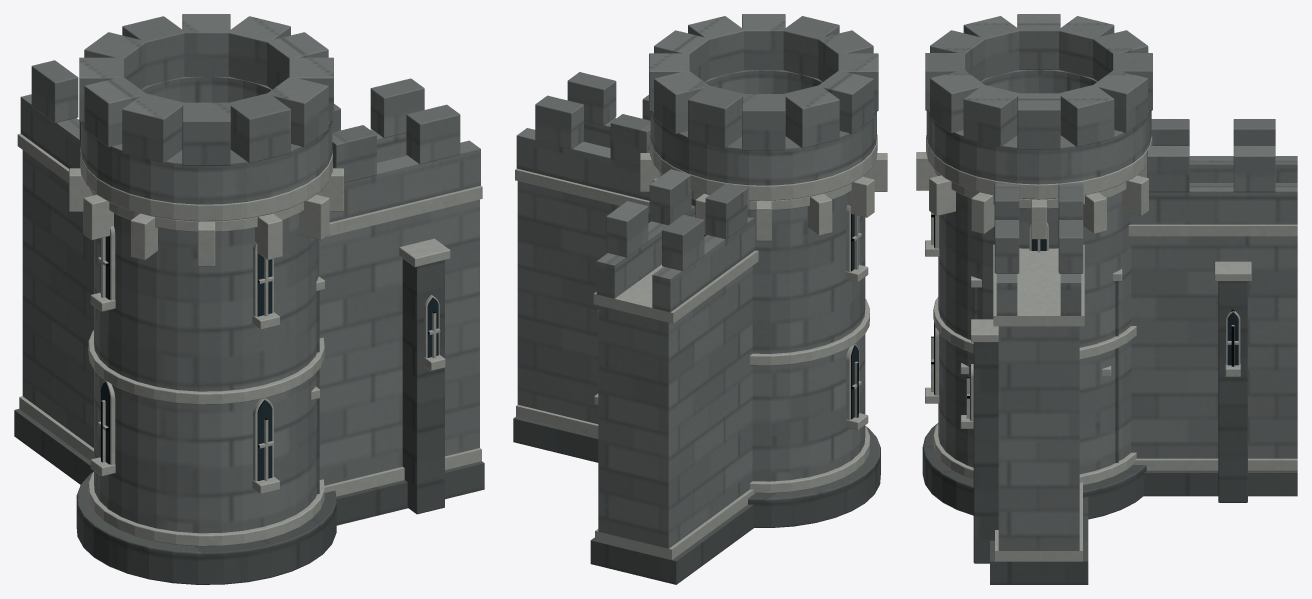
The model's file is Granite_Corner.fbx.
3 renders of one model, left to right at view 1: azimuth 30°, elevation 25°; view 2: azimuth 150°, elevation 25°; view 3: azimuth 270°, elevation 25°, orthographic. The views are drawn at different scales.
Visible parts, largest first — view 1: Granite_Corner.001; view 2: Granite_Corner.001; view 3: Granite_Corner.001.
Boxes of the visible parts, x1=… form: Granite_Corner.001: x1=14, y1=14, x2=484, y2=584; Granite_Corner.001: x1=513, y1=14, x2=887, y2=584; Granite_Corner.001: x1=916, y1=14, x2=1297, y2=584.
Bounding box in the file's own units: 5.9 × 7.06 × 5.9.
